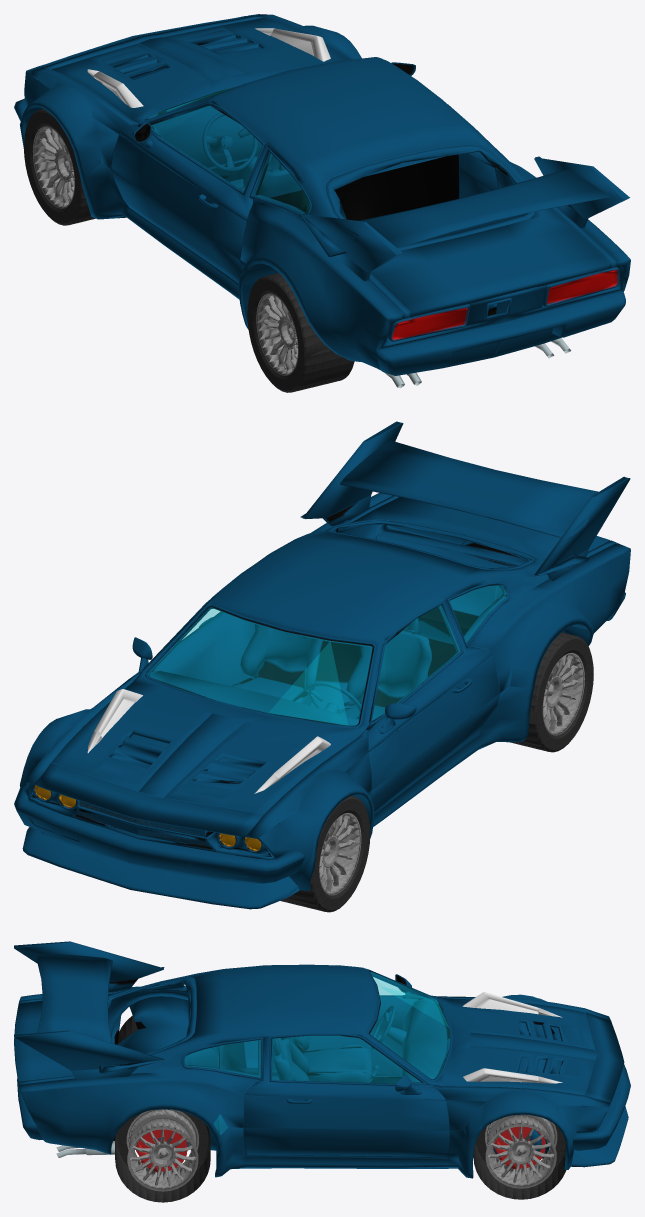
File: cyberpunk.glb
The picture shows the model from 3 angles, top to bottom: view 1: azimuth 30°, elevation 25°; view 2: azimuth 150°, elevation 25°; view 3: azimuth 270°, elevation 25°; orthographic projection. The views are drawn at different scales.
Visible parts, largest first — view 1: Body_gameasset_Body_gameasset_Mat_1_0_part_0, Wheel RL_gameasset_Wheel RL_gameasset_Mat_1_0_part_4, Body_gameasset_GL_basic_Glass material_0_part_1, Wheel FL_gameasset_Wheel FL_gameasset_Mat_1_0_part_2; view 2: Body_gameasset_Body_gameasset_Mat_1_0_part_0, Body_gameasset_GL_basic_Glass material_0_part_1, Wheel RL_gameasset_Wheel RL_gameasset_Mat_1_0_part_4, Wheel FL_gameasset_Wheel FL_gameasset_Mat_1_0_part_2; view 3: Body_gameasset_Body_gameasset_Mat_1_0_part_0, Body_gameasset_GL_basic_Glass material_0_part_1, Wheel RR_gameasset_Wheel RR_gameasset_Mat_1_0_part_5, Wheel FR_gameasset_Wheel FR_gameasset_Mat_1_0_part_3.
Part boxes in pixels (x1=…): Body_gameasset_Body_gameasset_Mat_1_0_part_0: x1=14, y1=14, x2=630, y2=387; Wheel RL_gameasset_Wheel RL_gameasset_Mat_1_0_part_4: x1=247, y1=273, x2=354, y2=392; Body_gameasset_GL_basic_Glass material_0_part_1: x1=148, y1=88, x2=309, y2=213; Wheel FL_gameasset_Wheel FL_gameasset_Mat_1_0_part_2: x1=24, y1=108, x2=95, y2=225; Body_gameasset_Body_gameasset_Mat_1_0_part_0: x1=14, y1=421, x2=630, y2=909; Body_gameasset_GL_basic_Glass material_0_part_1: x1=148, y1=585, x2=506, y2=725; Wheel RL_gameasset_Wheel RL_gameasset_Mat_1_0_part_4: x1=510, y1=632, x2=593, y2=752; Wheel FL_gameasset_Wheel FL_gameasset_Mat_1_0_part_2: x1=280, y1=795, x2=370, y2=912; Body_gameasset_Body_gameasset_Mat_1_0_part_0: x1=14, y1=941, x2=630, y2=1178; Body_gameasset_GL_basic_Glass material_0_part_1: x1=184, y1=972, x2=449, y2=1134; Wheel RR_gameasset_Wheel RR_gameasset_Mat_1_0_part_5: x1=115, y1=1109, x2=210, y2=1202; Wheel FR_gameasset_Wheel FR_gameasset_Mat_1_0_part_3: x1=473, y1=1114, x2=566, y2=1199.
Size of the model in its own units: 2.25 by 1.46 by 5.04.
6 materials, 5 textured.
